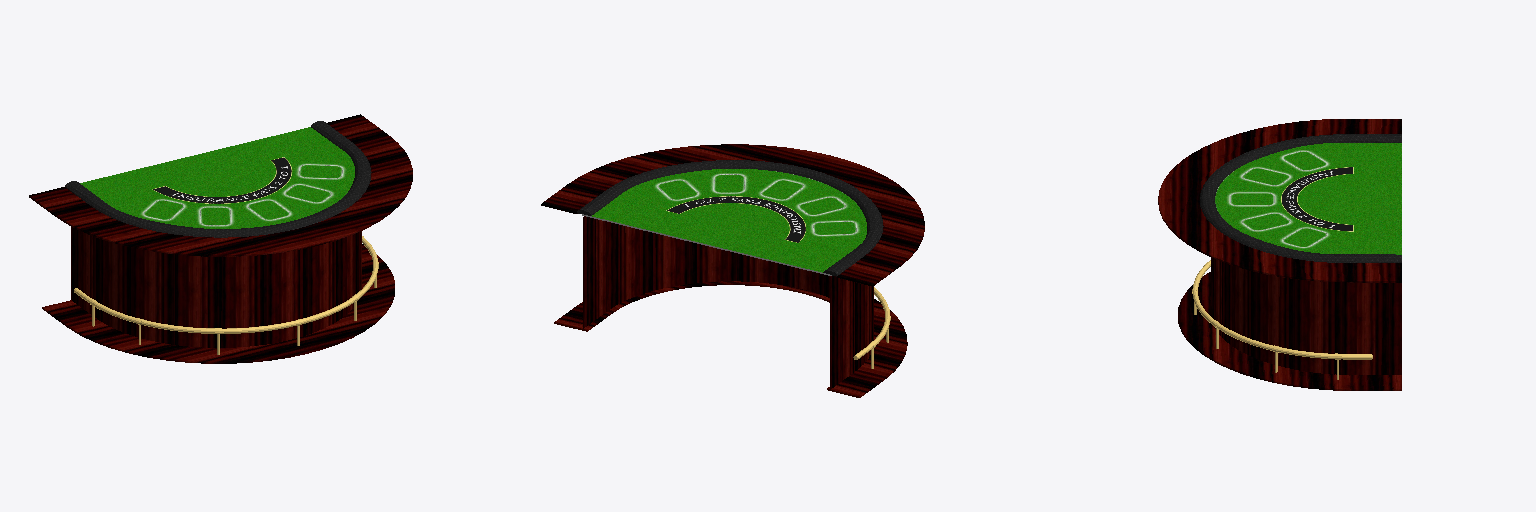
The picture shows the model from 3 angles: view 1: azimuth 30°, elevation 25°; view 2: azimuth 150°, elevation 25°; view 3: azimuth 270°, elevation 25°; orthographic projection.
Parts seen in each view (by area): view 1: obj5, obj3, obj1, obj4, obj2, obj6; view 2: obj3, obj5, obj1, obj2, obj4; view 3: obj3, obj5, obj1, obj4, obj2, obj6.
Part boxes in pixels (left/top/right/bottom): obj5: left=71, top=227, right=361, bottom=347; obj3: left=80, top=127, right=354, bottom=228; obj1: left=29, top=114, right=412, bottom=256; obj4: left=42, top=244, right=394, bottom=363; obj2: left=65, top=121, right=371, bottom=237; obj6: left=74, top=236, right=378, bottom=333; obj3: left=582, top=169, right=866, bottom=275; obj5: left=583, top=216, right=873, bottom=388; obj1: left=541, top=144, right=924, bottom=286; obj2: left=577, top=160, right=883, bottom=276; obj4: left=554, top=281, right=907, bottom=397; obj3: left=1215, top=143, right=1401, bottom=254; obj5: left=1211, top=258, right=1401, bottom=374; obj1: left=1158, top=119, right=1401, bottom=282; obj4: left=1178, top=272, right=1401, bottom=390; obj2: left=1200, top=134, right=1401, bottom=262; obj6: left=1193, top=260, right=1372, bottom=359.
Size of the model in its own units: 2.6 by 0.9027 by 1.65.
1 materials, 1 textured.